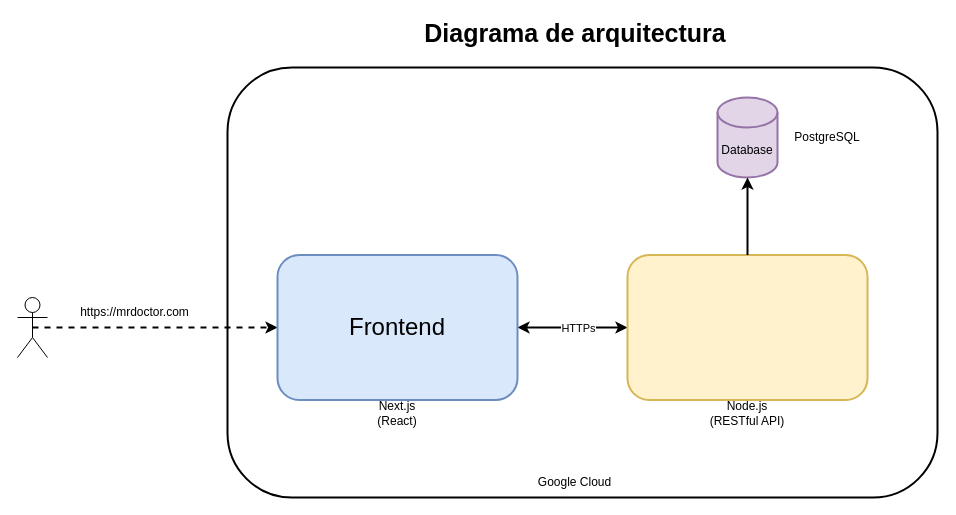
The diagram is 956 pixels wide and 515 high, and some of its shapes have lost their labels. The box of each missing label's shape, as (x1, y1, x2, y2) in pixels:
Backend: (626, 254, 868, 400)
User: (16, 296, 48, 358)
